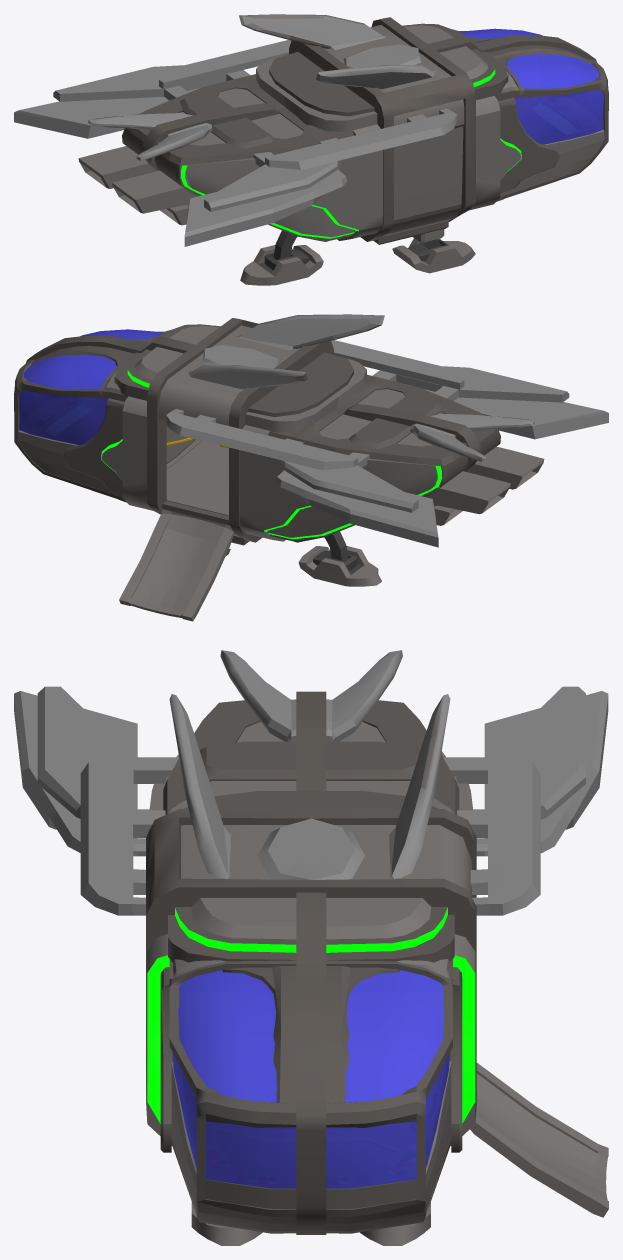
The model's file is LargeShip.fbx.
The picture shows the model from 3 angles, top to bottom: view 1: azimuth 30°, elevation 25°; view 2: azimuth 150°, elevation 25°; view 3: azimuth 270°, elevation 25°; orthographic projection. The views are drawn at different scales.
Visible parts, largest first — view 1: Mothership; view 2: Mothership; view 3: Mothership.
Part boxes in pixels (x1,y1,x2,y2): Mothership: (14, 14, 608, 285); Mothership: (14, 314, 608, 621); Mothership: (14, 650, 608, 1245).
Size of the model in its own units: 34.09 by 15.32 by 20.36.
